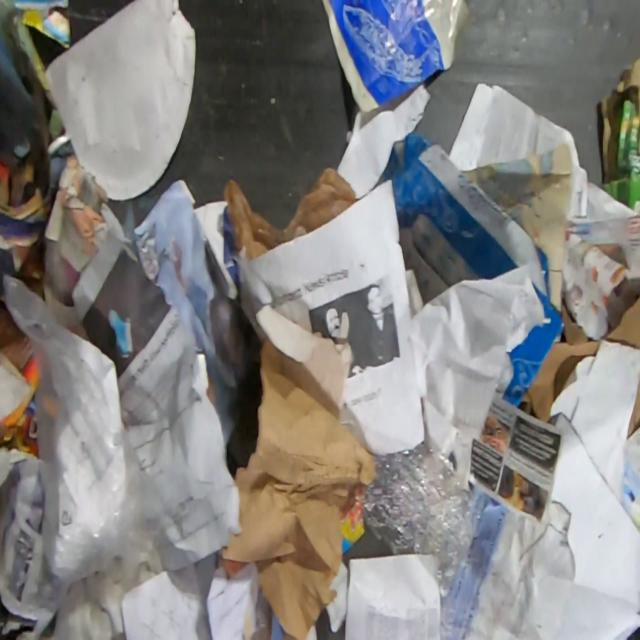cardboard: (368, 130, 565, 408), (215, 332, 376, 639), (43, 0, 198, 201), (255, 301, 355, 417), (518, 300, 600, 422), (599, 53, 640, 216), (601, 293, 640, 352), (627, 378, 640, 440)
soft_plastic: (2, 270, 168, 609), (359, 439, 485, 603), (223, 164, 359, 260)
